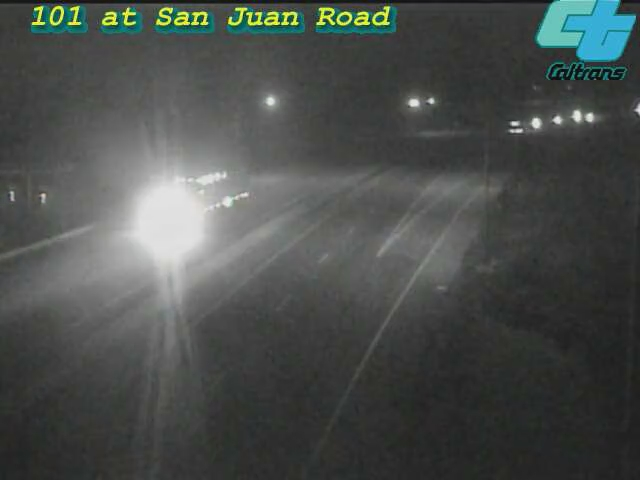vehicle: (121, 177, 201, 257), (567, 91, 617, 141), (493, 102, 543, 152), (509, 97, 559, 147), (549, 92, 599, 142), (530, 96, 580, 146)
